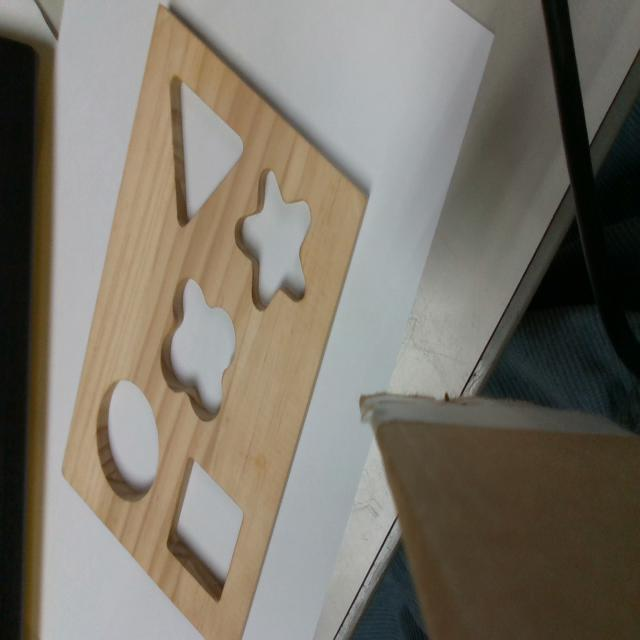circle: (99, 380, 159, 498)
flower: (159, 275, 235, 421)
square: (162, 454, 245, 606)
star: (235, 169, 309, 310)
triangle: (169, 74, 246, 229)
